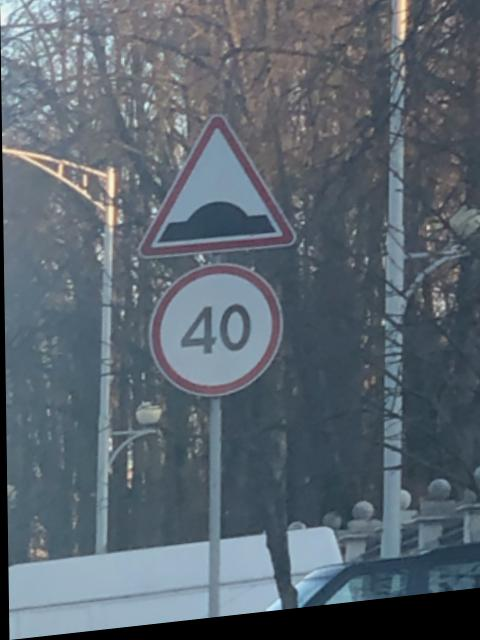limit40: (143, 257, 292, 418)
